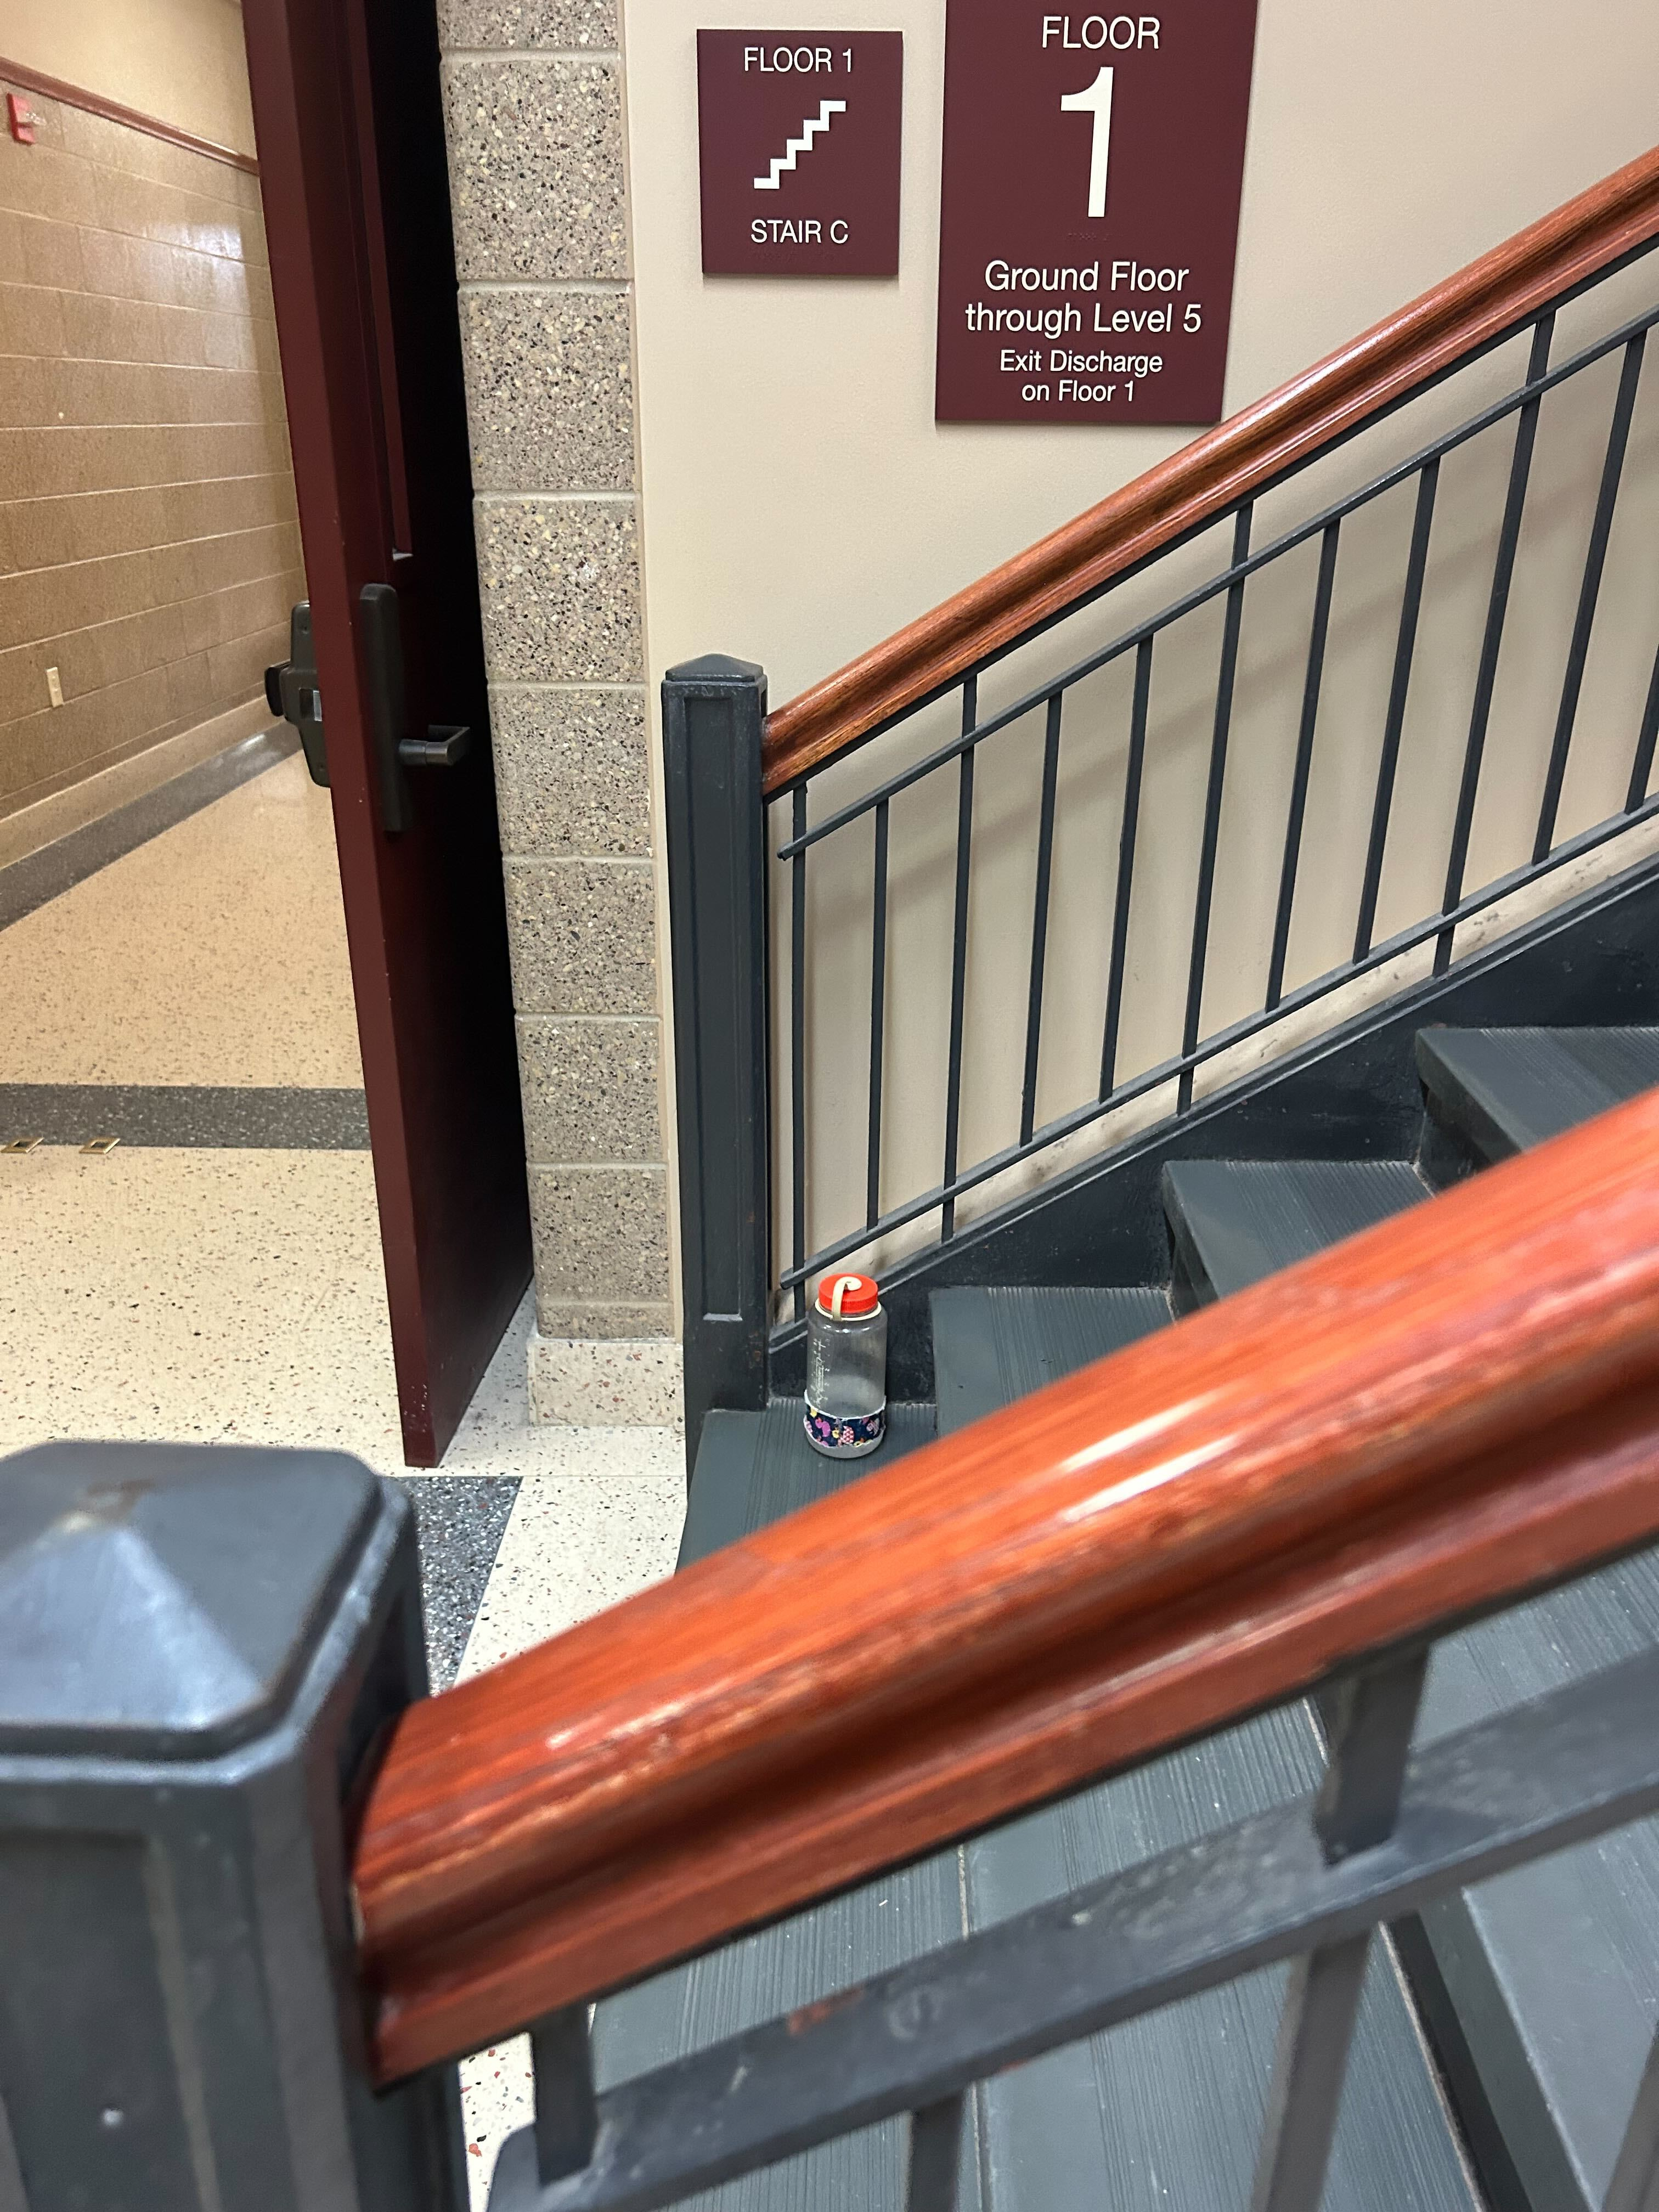bottle: (803, 1263, 889, 1472)
